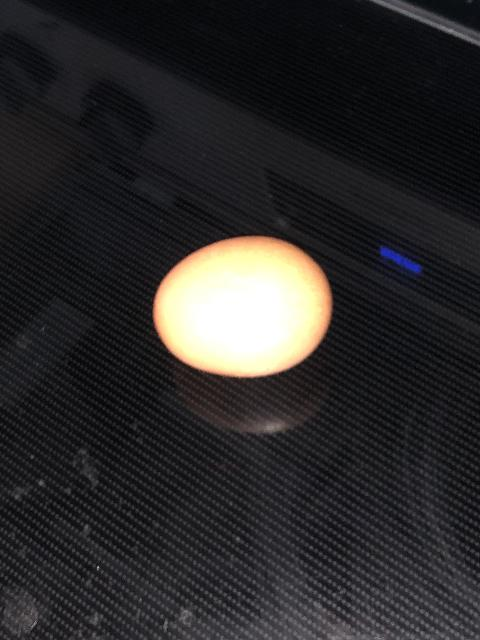Sano: (154, 238, 331, 379)
